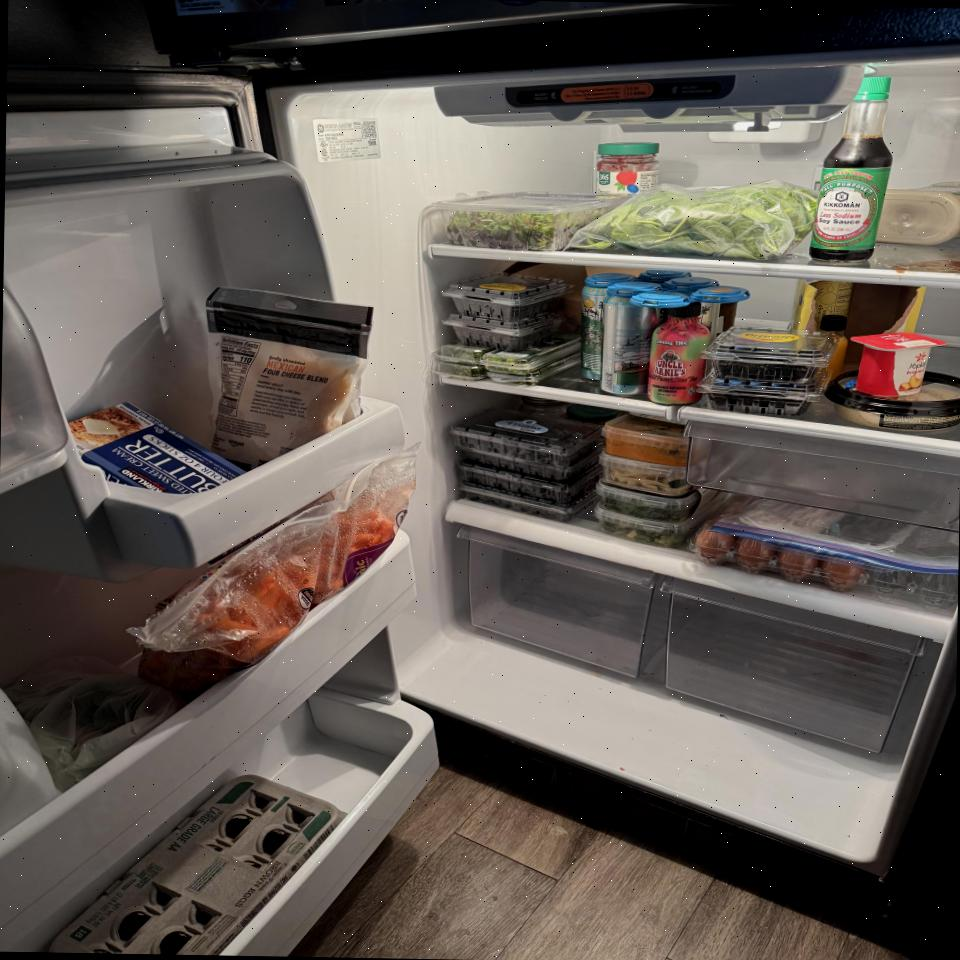Huevos: (50, 770, 350, 958), (687, 492, 868, 592)
Mantequilla: (66, 400, 250, 496)
Zanahoria: (123, 436, 422, 695)
blueberries: (449, 404, 605, 468), (458, 459, 604, 504), (458, 481, 600, 524)
